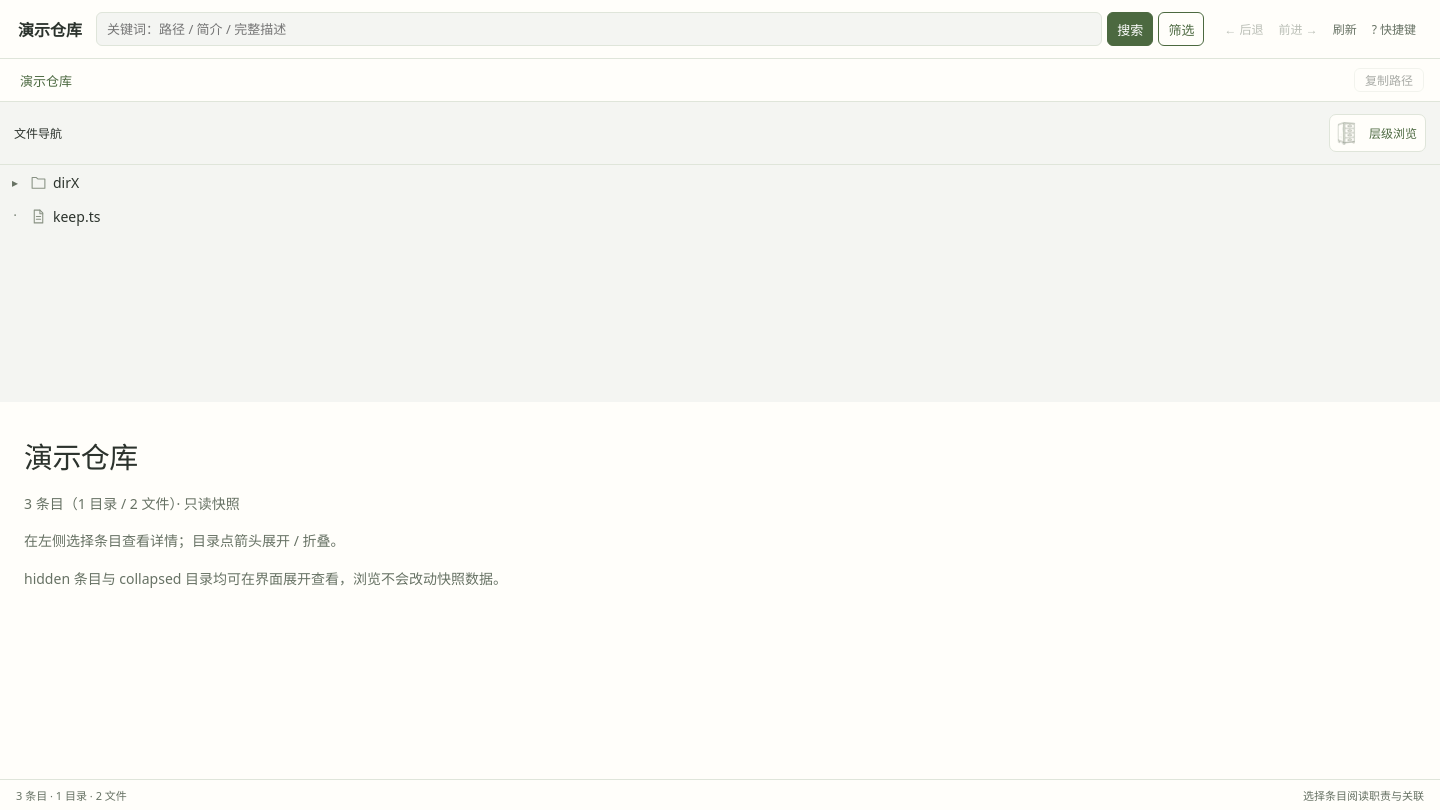
it: 浏览布局与控制层页面契约 › 刷新期间新搜索晚回旧世代，重试不会覆盖之后的新世代查询
Expected: the text "dirX" is shown, [53, 172, 79, 192]
Click the button "刷新": (1345, 29) [1327, 14, 1363, 44]
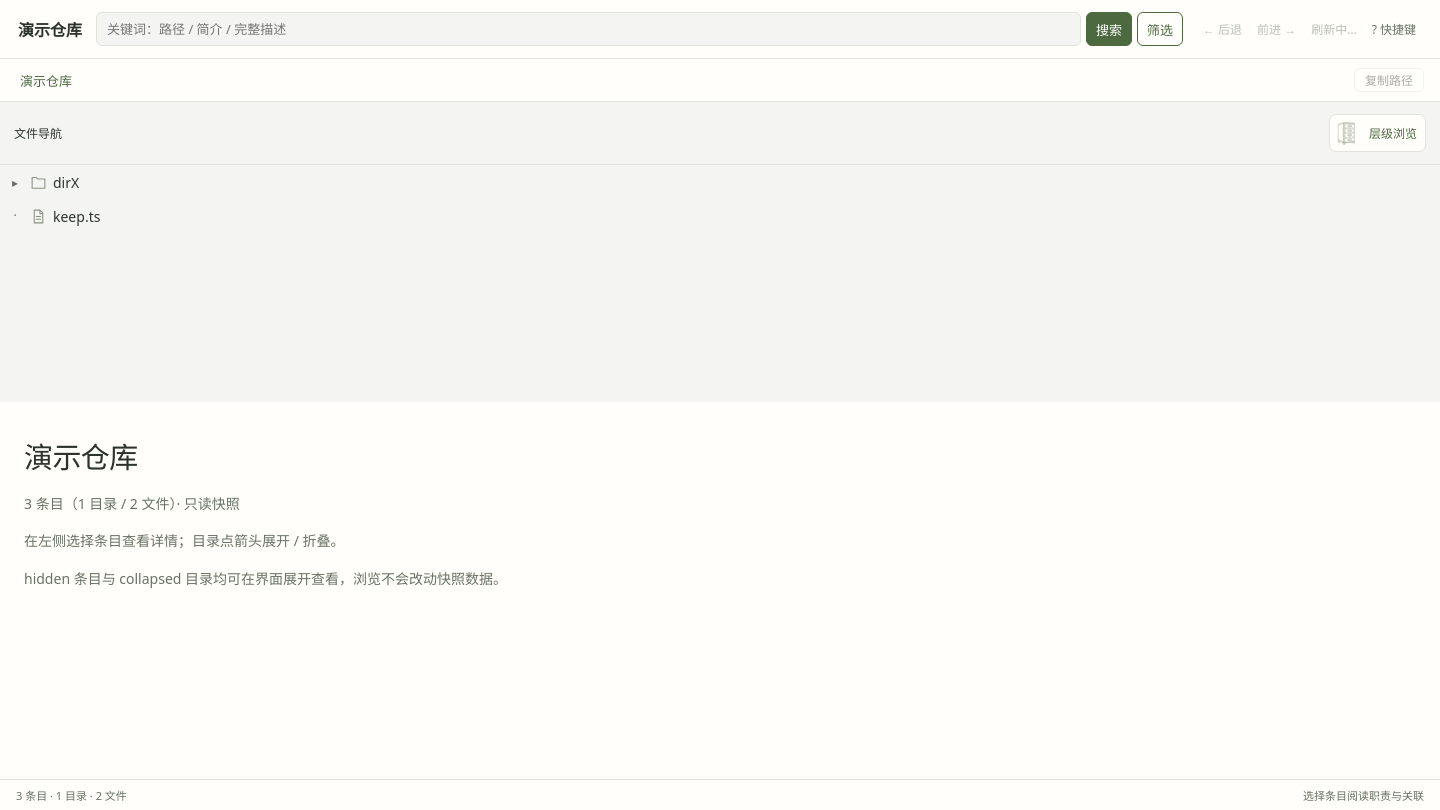
In the search field labelled "关键词": (588, 29) [96, 12, 1081, 46], type "查询A"
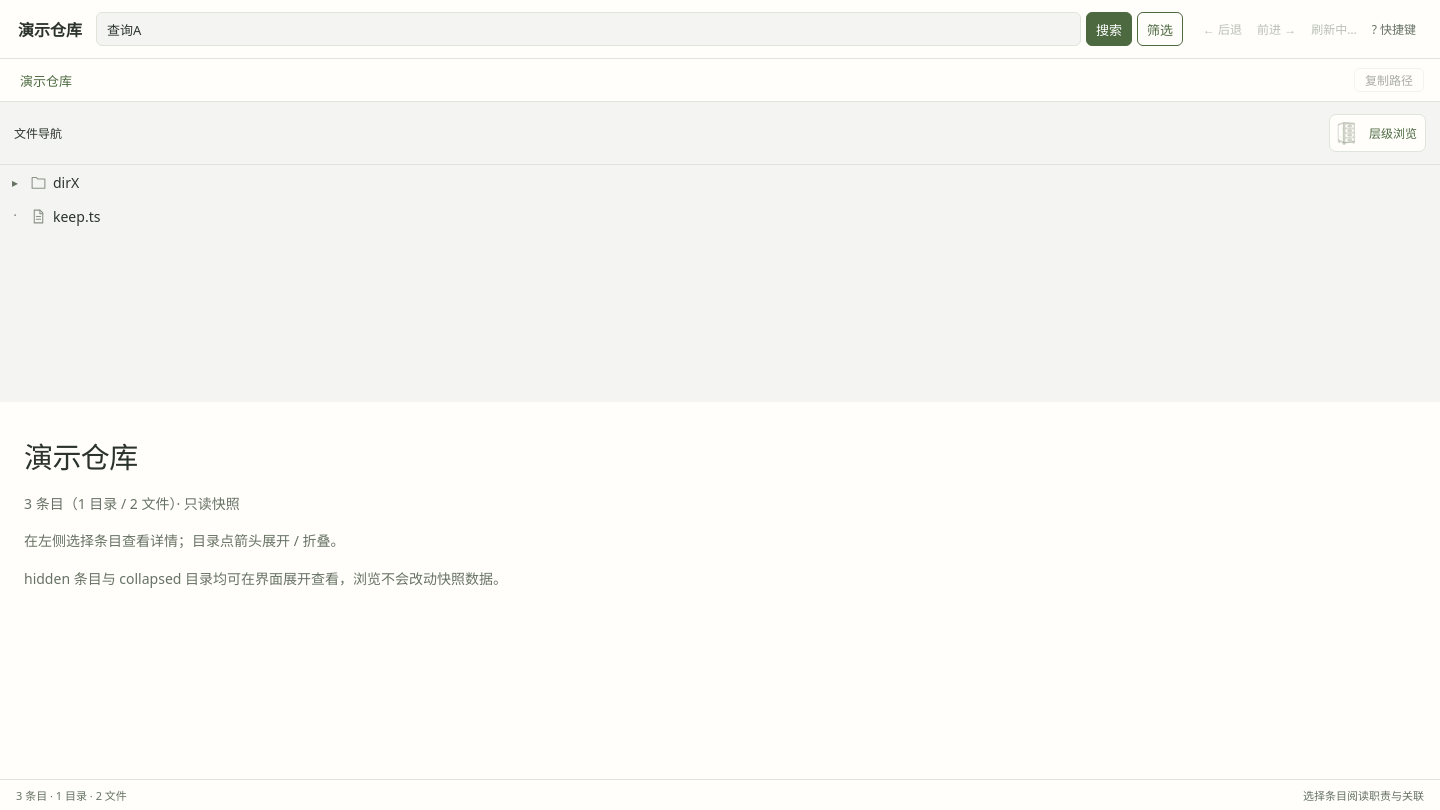
Submit the form, box [96, 12, 1183, 46]
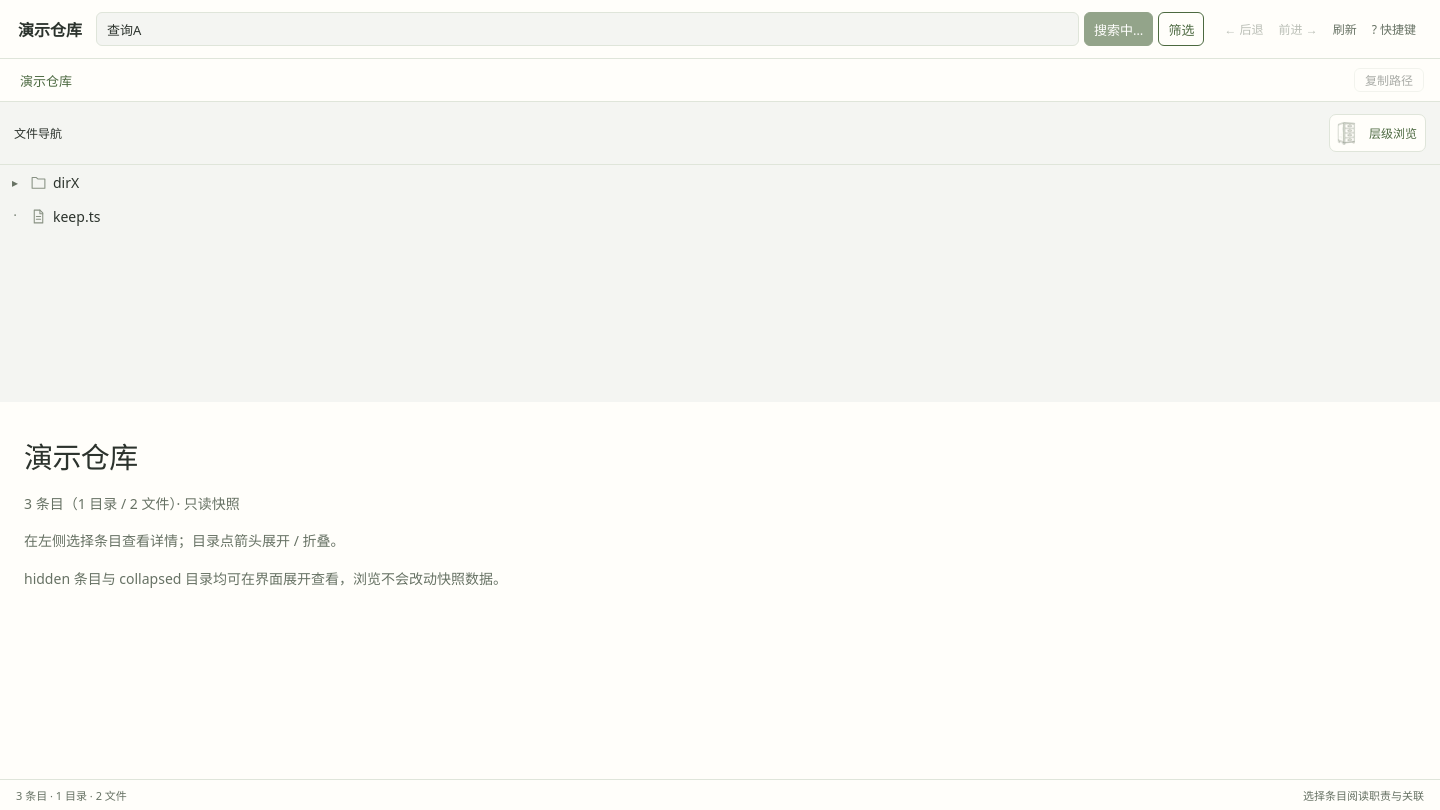
Expected: the button "刷新" is shown, [1327, 14, 1363, 44]
Replace the text in the search field named "关键词" with "查询B": (588, 29) [96, 12, 1079, 46]
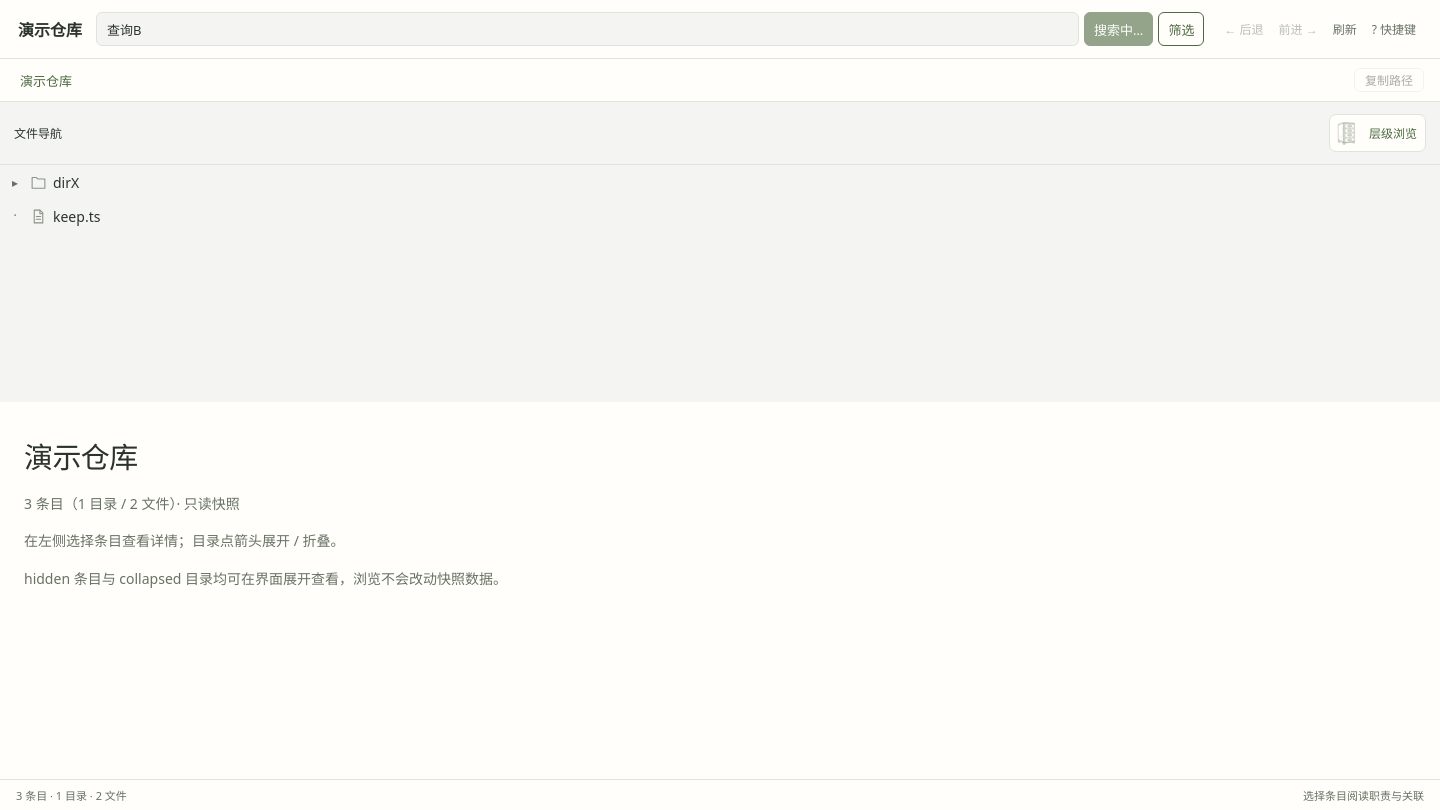
Submit the form, box [96, 12, 1204, 46]
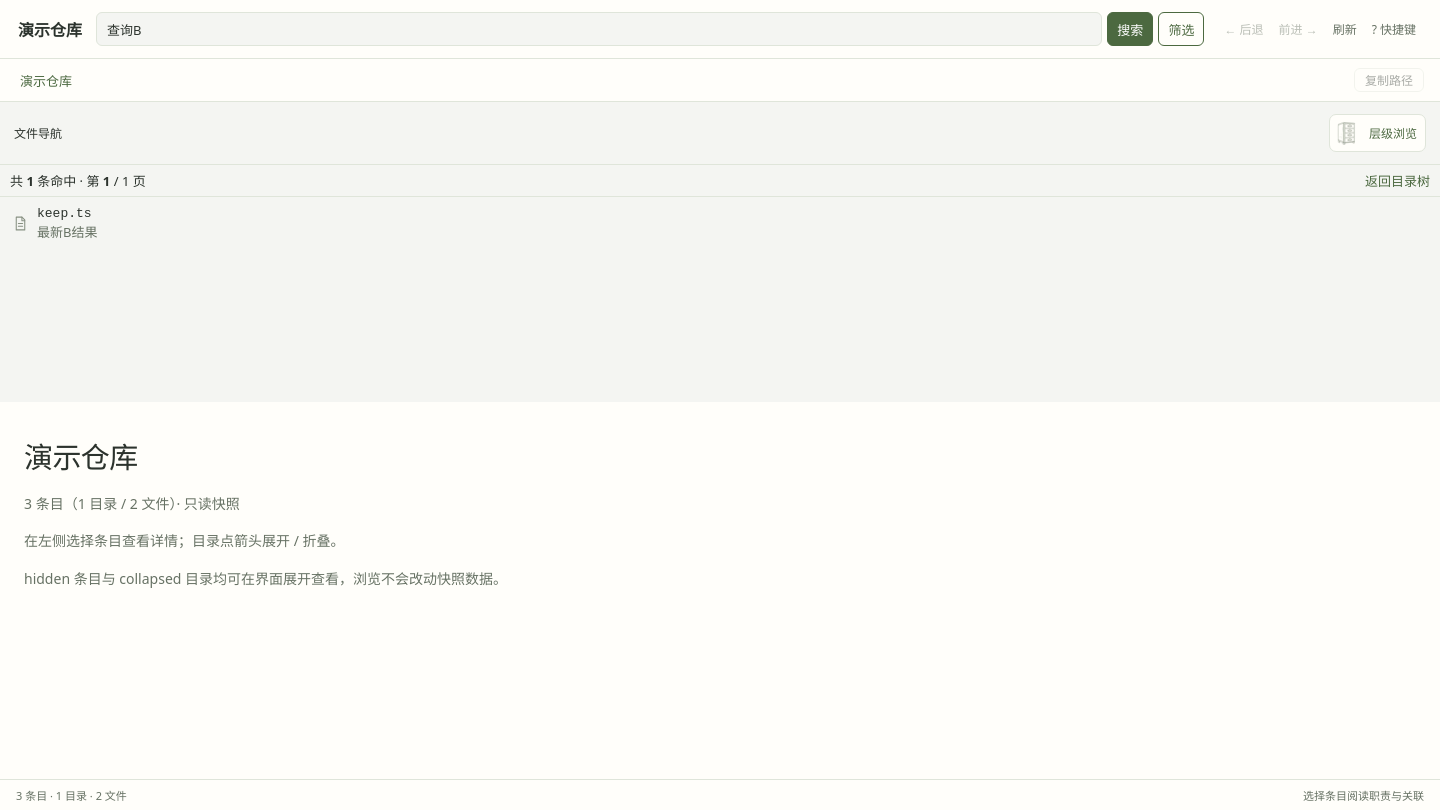
Expected: the button "搜索" is shown, [1107, 12, 1153, 46]
Now the text "最新B结果" is shown, box [37, 223, 98, 241]
